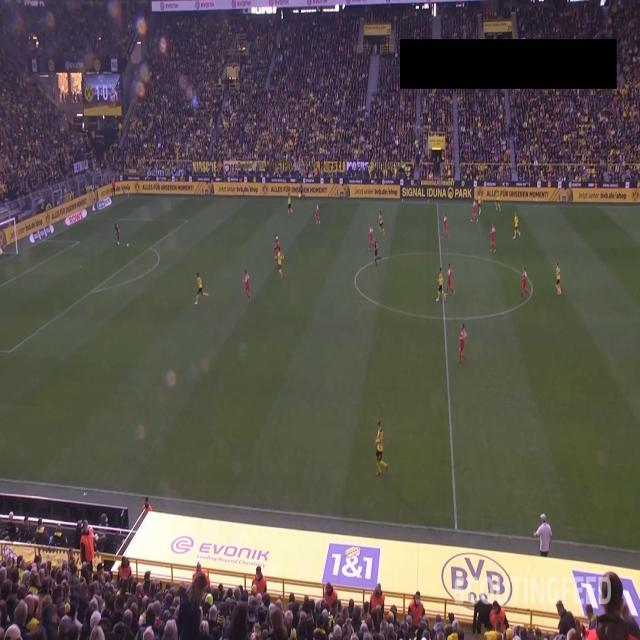ball: (126, 242, 129, 248)
